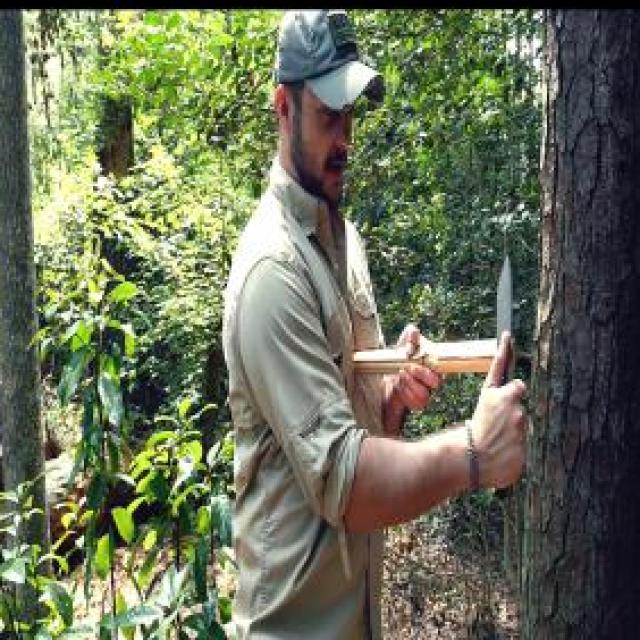knife: (481, 248, 531, 474)
